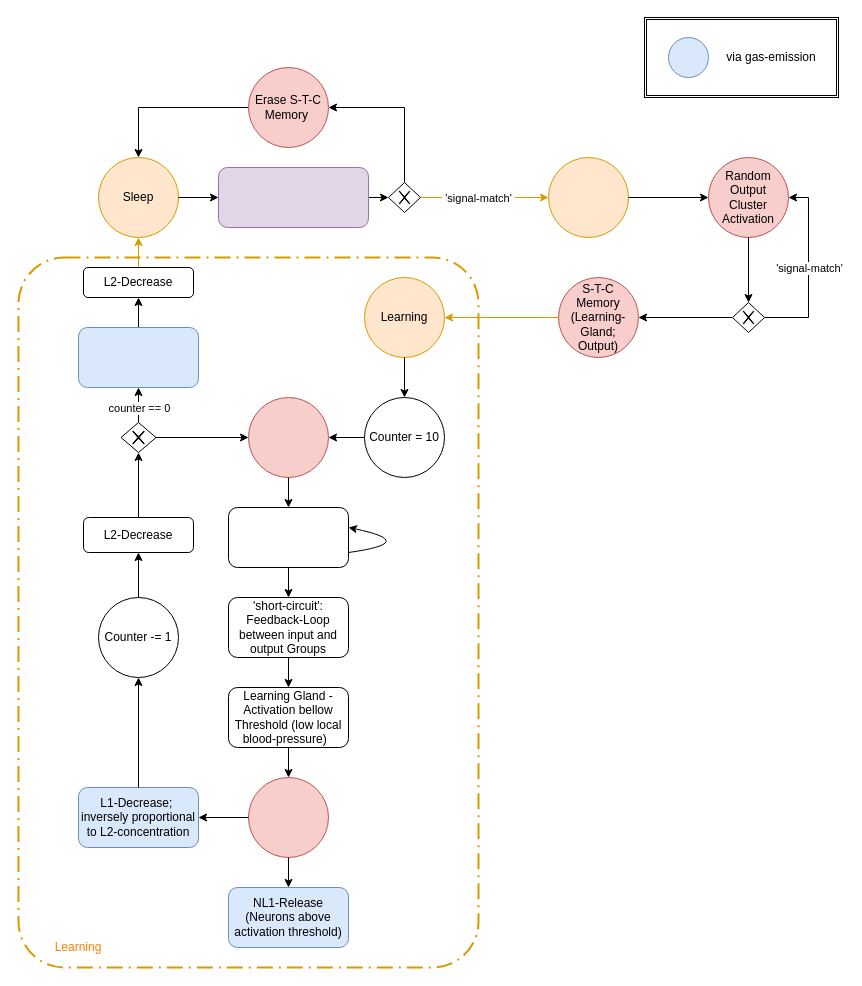
Image size: 862x986. Some labels were removed from this diagram. Here are the shapes that lost their labels. From the top down, the centre of each, then its label:
At (293,197): "Random Input Cluster Activation; S-T-C Memory (Input)".
At (588,197): "Fear".
At (138,357): "NL2-Release (Neurons above NL1 threshold)".
At (288,437): "L1-Release: Random Liquid Neuron activation".
At (288,537): "Random S-T-S Growth; speed proportional to L1 and NL1-concentration;".
At (288,817): "L2-Release".
